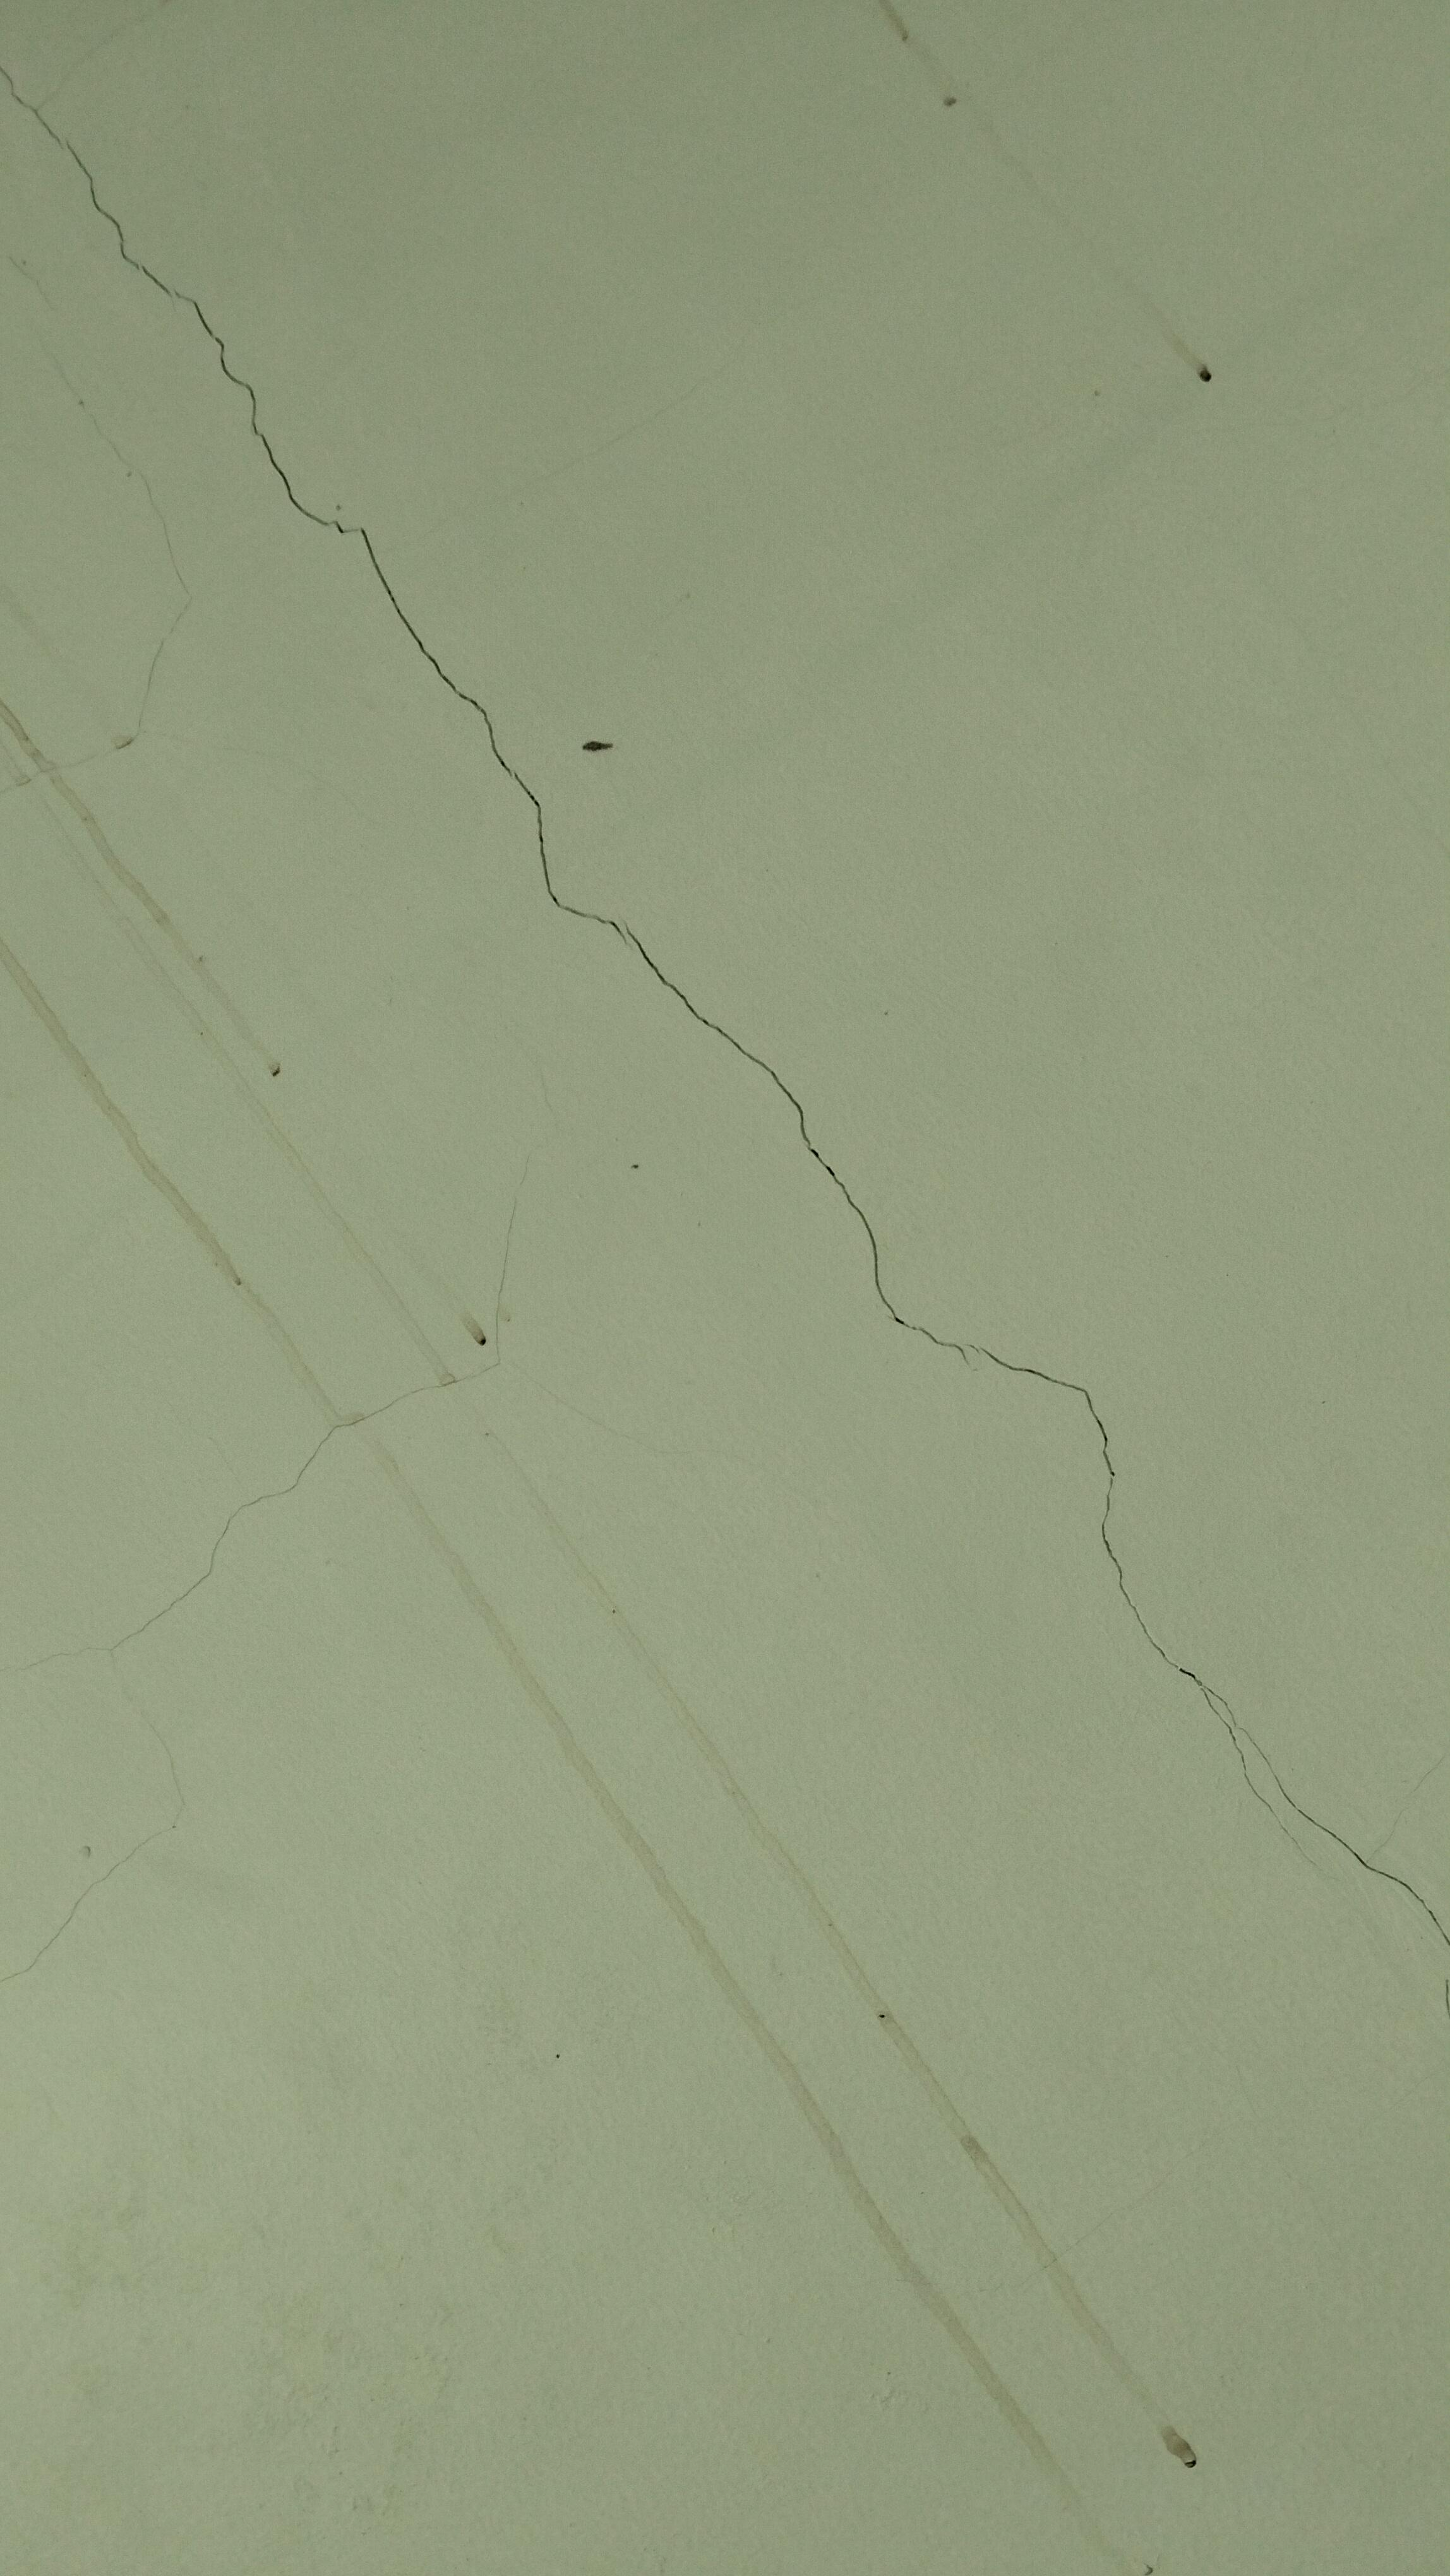Crack: (0, 32, 558, 784), (859, 1251, 1399, 1799), (462, 770, 931, 1269), (1190, 1739, 1450, 1969), (101, 1424, 340, 1665)
